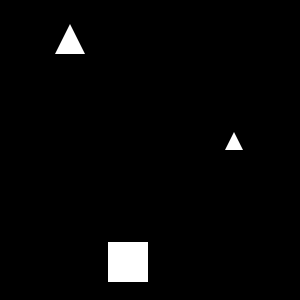circle: (108, 242, 148, 282)
triangle: (55, 24, 85, 54), (225, 132, 243, 150)
